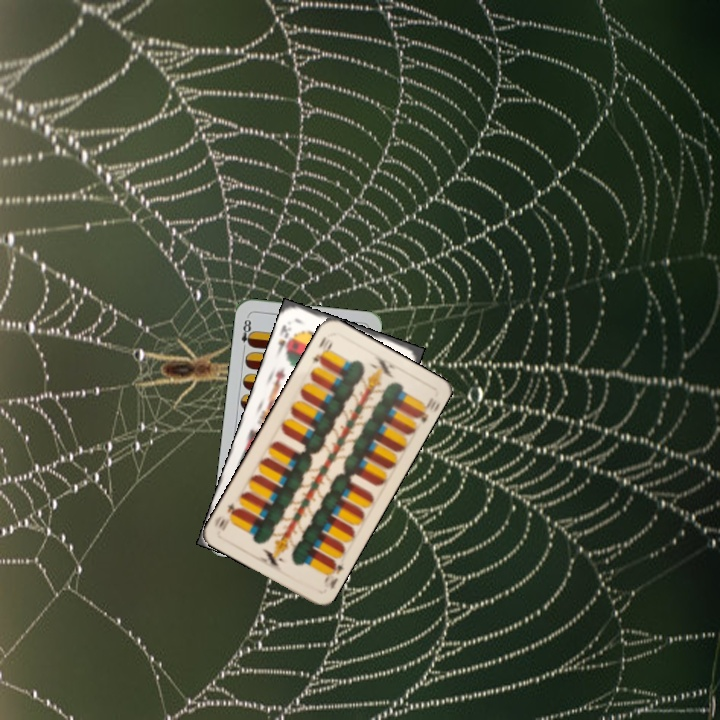E10: (319, 555, 346, 591), (309, 332, 335, 368)
E8: (237, 312, 255, 353)
SK: (273, 321, 295, 358)
